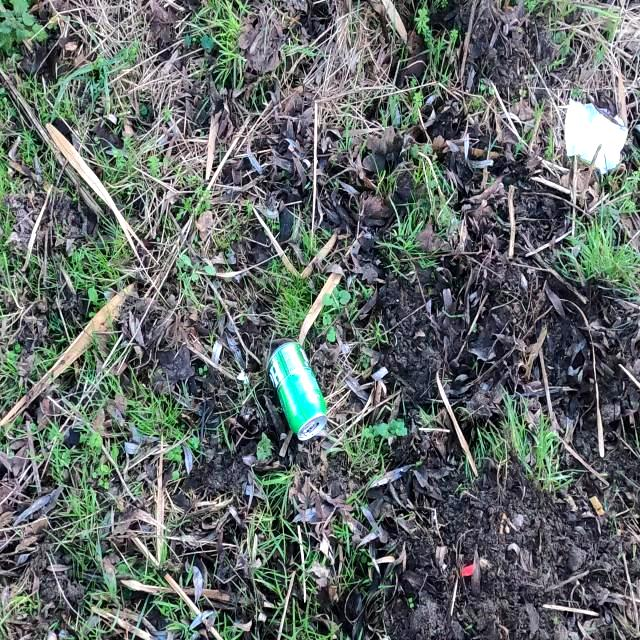Metal: (266, 341, 328, 442)
Paper: (565, 96, 629, 178)
